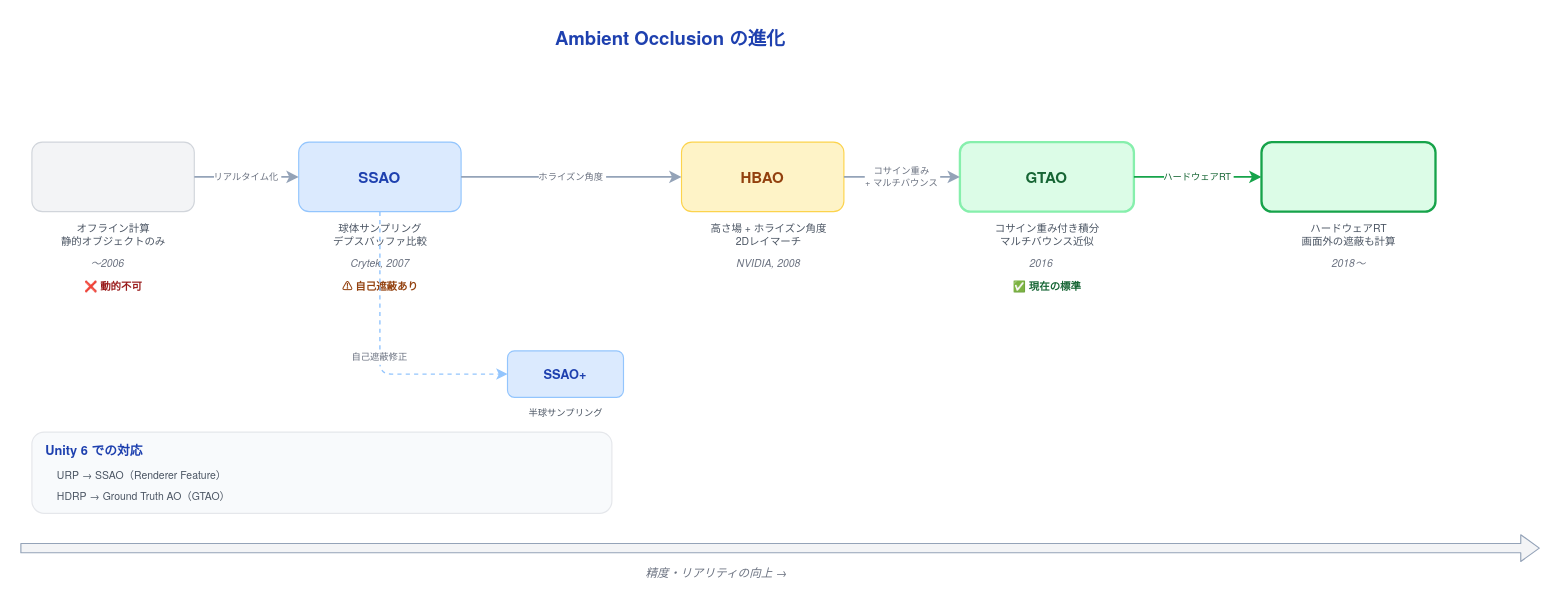
The diagram is 1559 pixels wide and 602 high, and some of its shapes have lost their labels. The shapes that lost their labels are listed below. From the top down, each one's centre as x and y in pixels, then its label:
(112,176): Precomputed AO
(1348,176): Ray-Tracing AO
